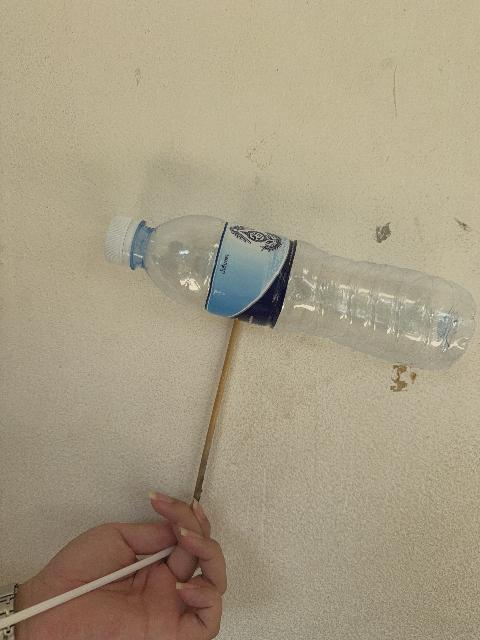bottle: (105, 216, 475, 369)
